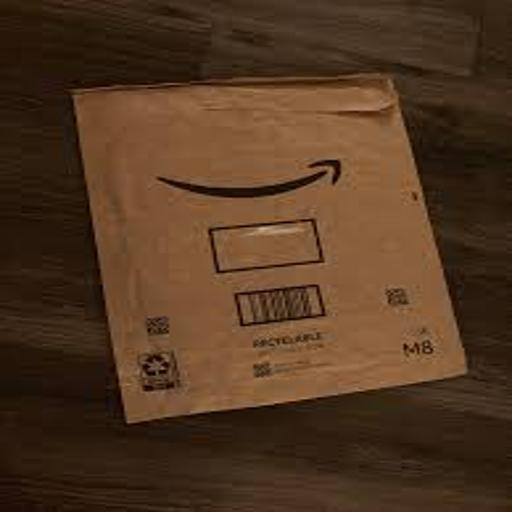Amazon: (69, 72, 472, 427)
